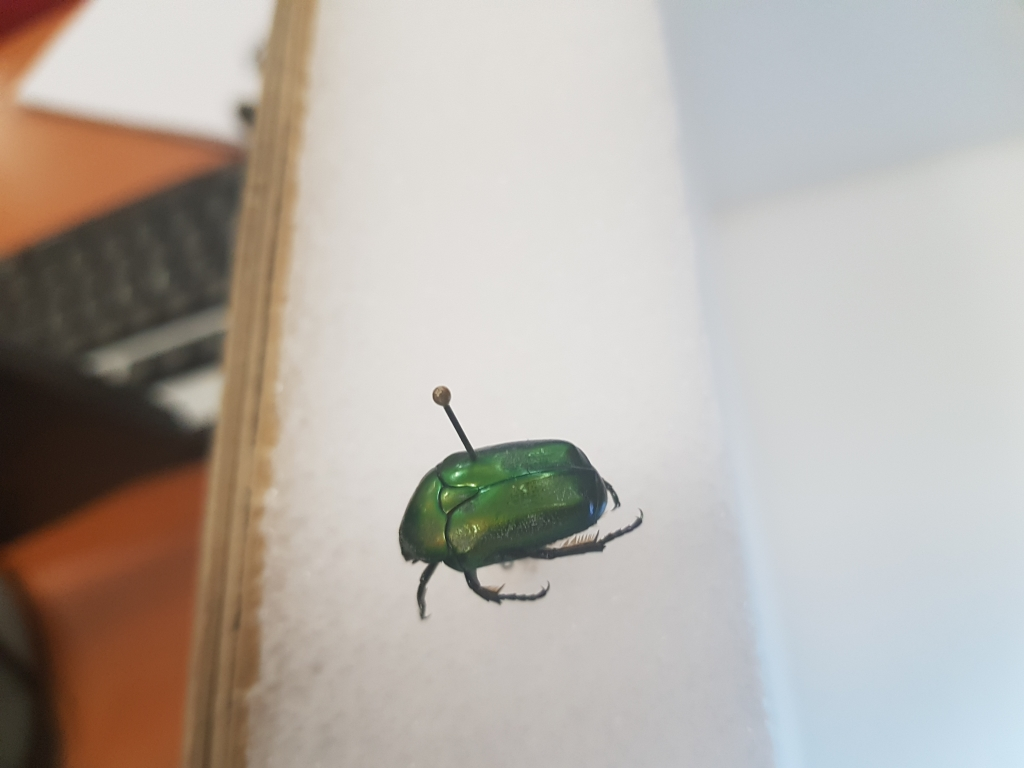Protaetia_cuprea_ignicollis: (396, 438, 649, 620)
